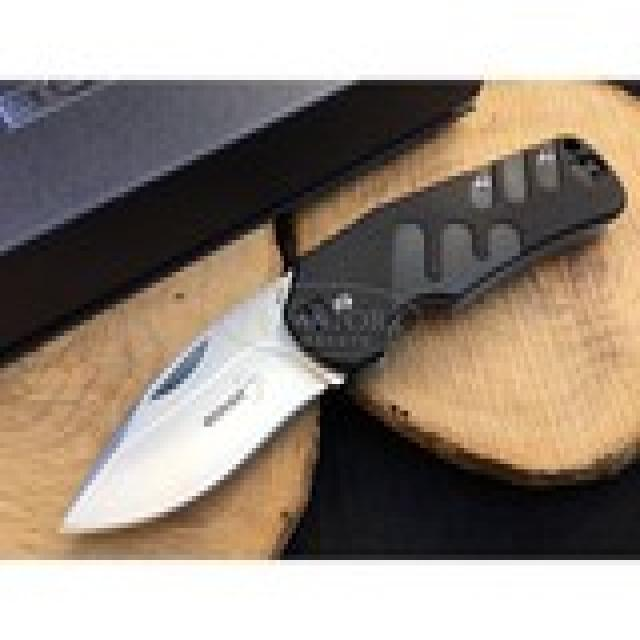Knife: (62, 133, 623, 546)
